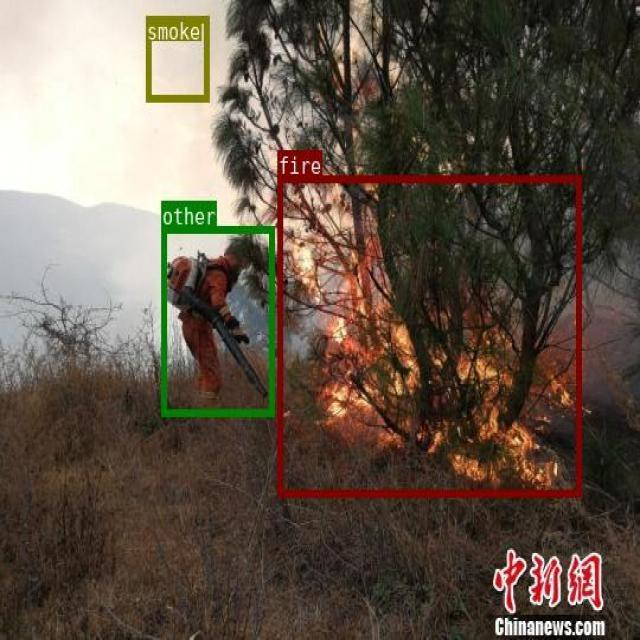fire: (277, 175, 581, 495)
smoke: (145, 15, 208, 101)
